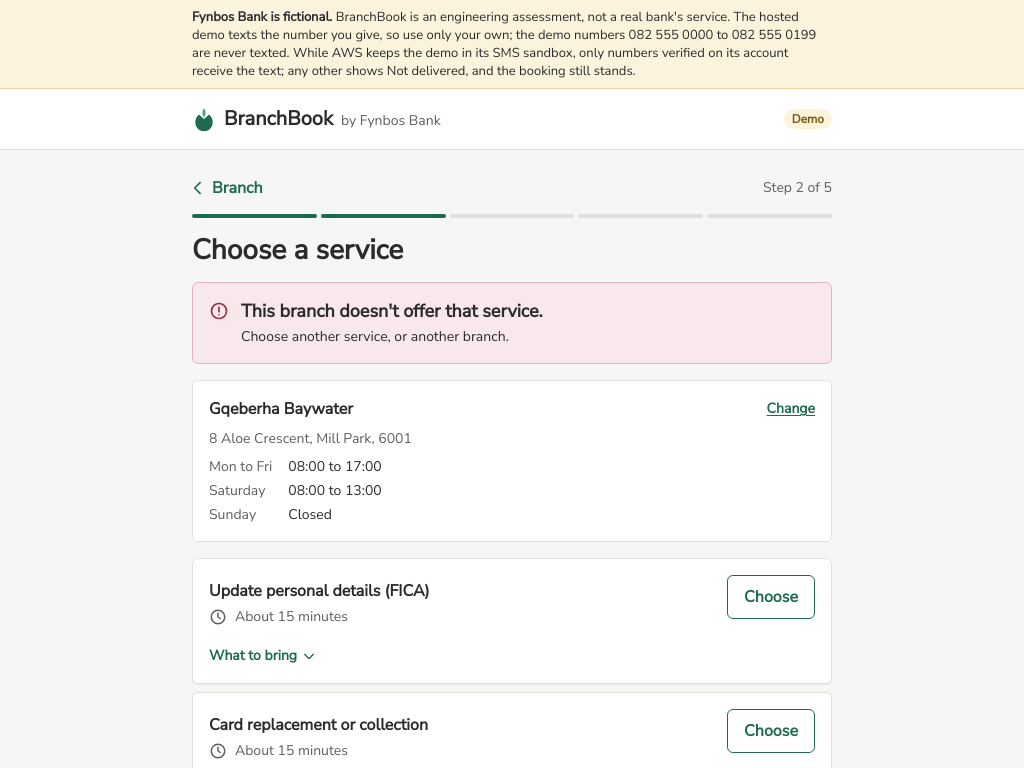
BookPage › shows the branch's services, with the reason, for a service the branch does not offer
Expected: the message shows "This branch doesn't offer that service.", x1=241 y1=299 x2=543 y2=323
Expected: the message shows "Choose another service, or another branch.", x1=241 y1=327 x2=509 y2=346
Click the button with aria-label "Choose card replacement or collection". click: (771, 731)
box: x1=727 y1=709 x2=815 y2=753
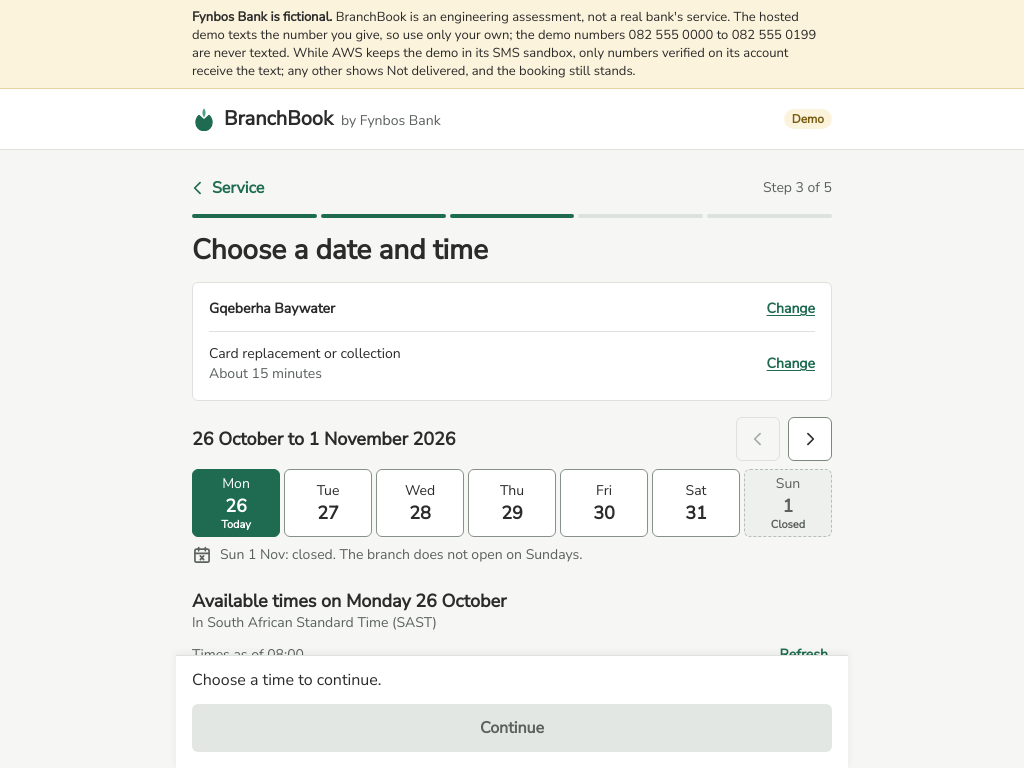
Result: the text "Step 3 of 5" is shown at x1=763 y1=178 x2=832 y2=198
